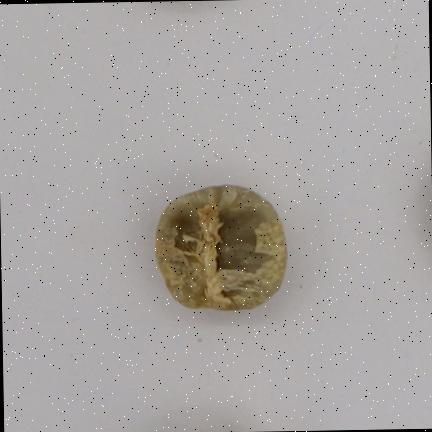husk: (156, 185, 286, 309), (184, 204, 228, 305)
